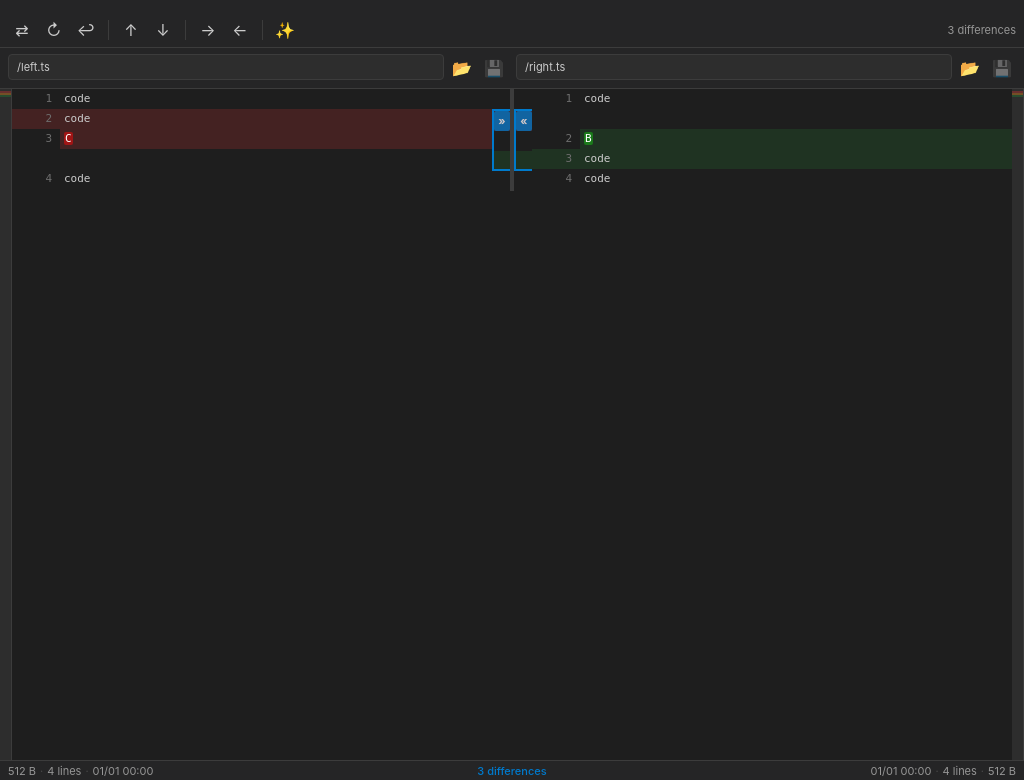
Test: Copy block/group to other side (feature 5.2) › block copy to left removes all diff rows in the group and marks left dirty
Click the button "«". click: (524, 121)
box: [516,111,532,131]
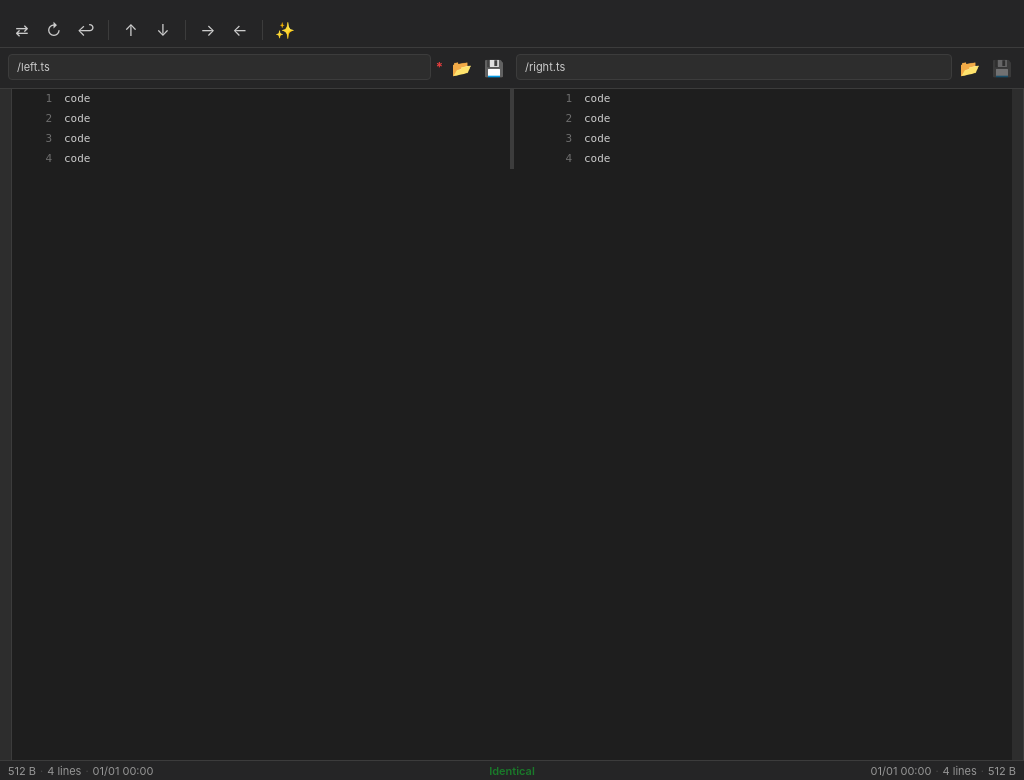
Result: the 1st button "💾" is enabled at [480,54,508,82]
